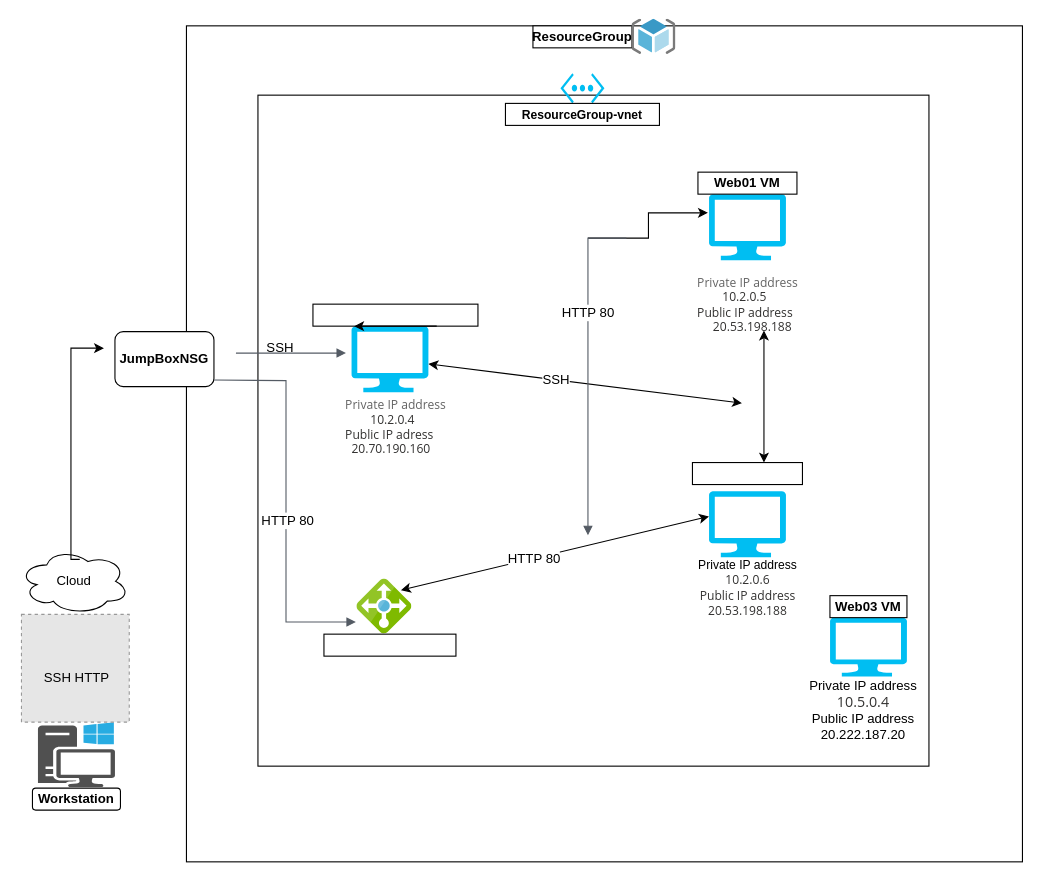
This 1051x881 diagram has some shape labels left out. Grey dashed boxes stand in for pictures. Each missing label, with the centre of its shape:
"JumpBox Virtual Machine" belongs at point 395,314.
"Load Balancer" belongs at point 389,644.
"Web02 VM" belongs at point 746,473.
